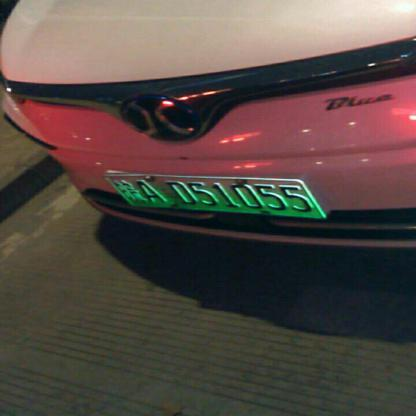lp: (103, 176, 325, 218)
